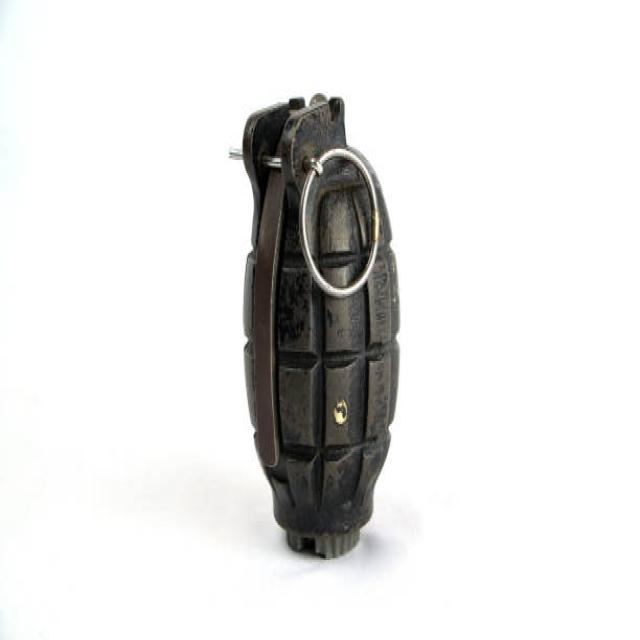grenade: (224, 85, 410, 573)
